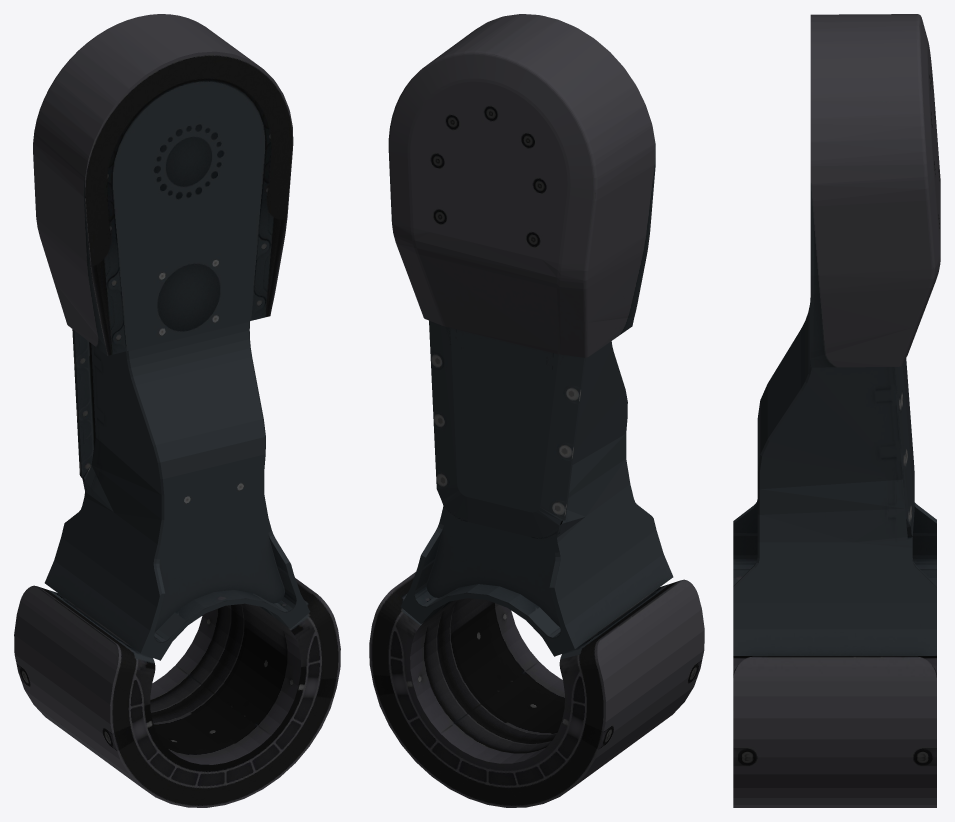
File: thigh.dae
3 renders of one model, left to right at view 1: azimuth 30°, elevation 25°; view 2: azimuth 150°, elevation 25°; view 3: azimuth 270°, elevation 25°, orthographic. The views are drawn at different scales.
Visible parts, largest first — view 1: AM3 Thigh LP; view 2: AM3 Thigh LP; view 3: AM3 Thigh LP.
Boxes of the visible parts, <box> form: AM3 Thigh LP: <box>14,14,340,807</box>; AM3 Thigh LP: <box>369,14,704,807</box>; AM3 Thigh LP: <box>733,14,940,807</box>.
Size of the model in its own units: 0.1387 by 0.1018 by 0.4164.
Materials: 1 (1 with a texture image).
